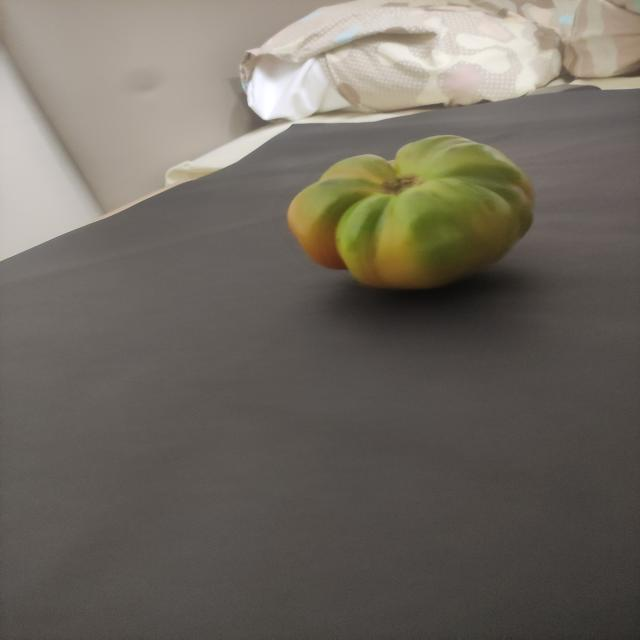unripe tomato: (269, 133, 557, 293)
